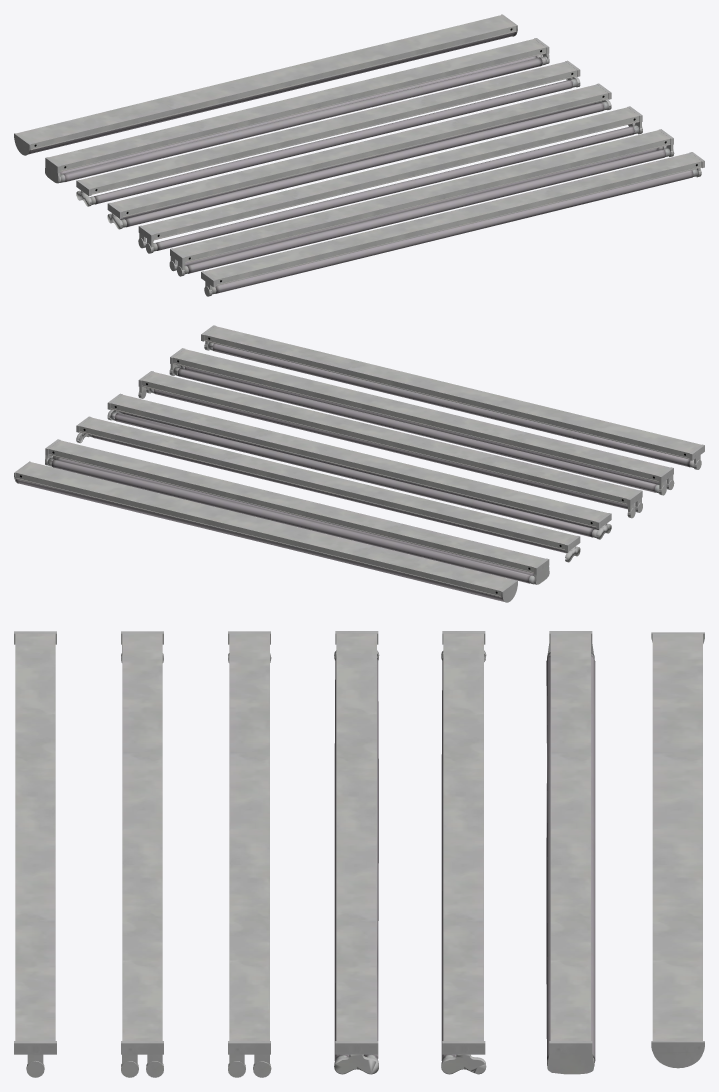
The model's file is fluorescent.glb.
3 renders of one model, top to bottom at view 1: azimuth 30°, elevation 25°; view 2: azimuth 150°, elevation 25°; view 3: azimuth 270°, elevation 25°, orthographic. The views are drawn at different scales.
Visible parts, largest first — view 1: mounted_fluorescent_lights_b, mounted_fluorescent_lights_f, mounted_fluorescent_lights_d, mounted_fluorescent_lights_c, mounted_fluorescent_lights_e, mounted_fluorescent_lights_a, mounted_fluorescent_lights_g; view 2: mounted_fluorescent_lights_b, mounted_fluorescent_lights_f, mounted_fluorescent_lights_d, mounted_fluorescent_lights_a, mounted_fluorescent_lights_g, mounted_fluorescent_lights_c, mounted_fluorescent_lights_e; view 3: mounted_fluorescent_lights_g, mounted_fluorescent_lights_f, mounted_fluorescent_lights_d, mounted_fluorescent_lights_e, mounted_fluorescent_lights_c, mounted_fluorescent_lights_b, mounted_fluorescent_lights_a.
Boxes of the visible parts, bbox=[...] form: mounted_fluorescent_lights_b: bbox=[169, 129, 674, 276]; mounted_fluorescent_lights_f: bbox=[45, 38, 549, 183]; mounted_fluorescent_lights_d: bbox=[107, 83, 611, 229]; mounted_fluorescent_lights_c: bbox=[138, 106, 642, 253]; mounted_fluorescent_lights_e: bbox=[76, 60, 580, 206]; mounted_fluorescent_lights_a: bbox=[201, 152, 704, 296]; mounted_fluorescent_lights_g: bbox=[14, 14, 517, 155]; mounted_fluorescent_lights_b: bbox=[169, 348, 674, 495]; mounted_fluorescent_lights_f: bbox=[45, 439, 549, 584]; mounted_fluorescent_lights_d: bbox=[107, 393, 611, 539]; mounted_fluorescent_lights_a: bbox=[201, 325, 704, 469]; mounted_fluorescent_lights_g: bbox=[14, 461, 517, 602]; mounted_fluorescent_lights_c: bbox=[138, 371, 642, 518]; mounted_fluorescent_lights_e: bbox=[76, 416, 580, 562]; mounted_fluorescent_lights_g: bbox=[651, 632, 704, 1068]; mounted_fluorescent_lights_f: bbox=[546, 631, 595, 1074]; mounted_fluorescent_lights_d: bbox=[334, 631, 379, 1074]; mounted_fluorescent_lights_e: bbox=[441, 631, 486, 1074]; mounted_fluorescent_lights_c: bbox=[228, 631, 271, 1077]; mounted_fluorescent_lights_b: bbox=[121, 631, 163, 1077]; mounted_fluorescent_lights_a: bbox=[14, 631, 56, 1077].
Bounding box in the file's own units: 0.9122 × 0.0353 × 0.6455.
Materials: 2 (2 with a texture image).
